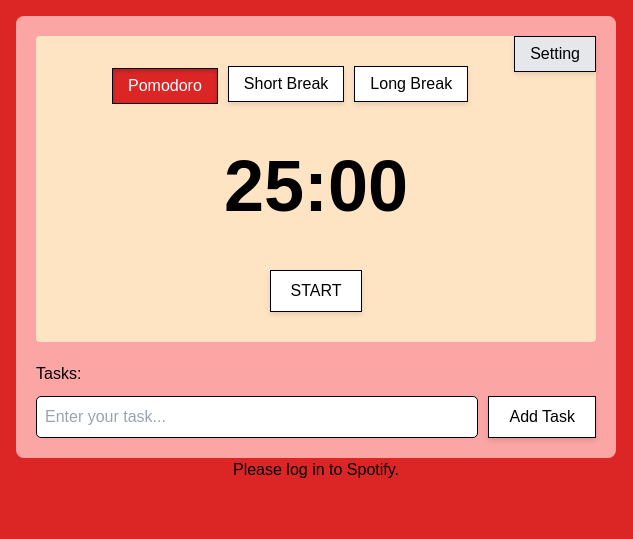
Timer Component › can add and delete a task
// Add task
Type "Test Task" into the field with placeholder "Enter your task...".
click(257, 417); type("Test Task")  # box [36, 396, 478, 438]
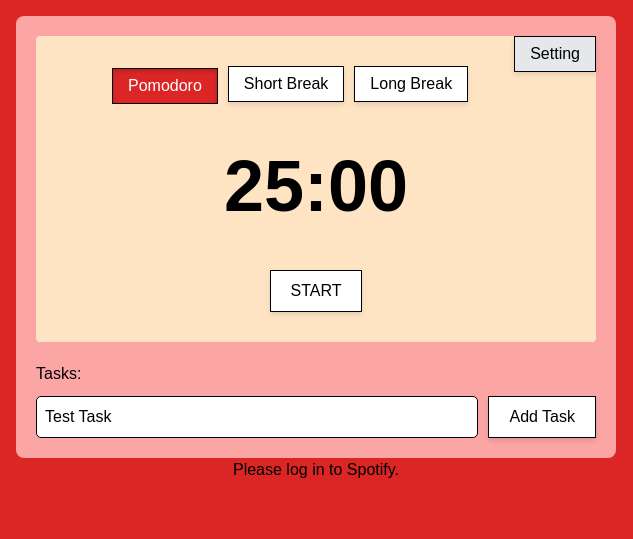
Click the button "Add Task".
click(542, 417)  # box [488, 396, 596, 438]
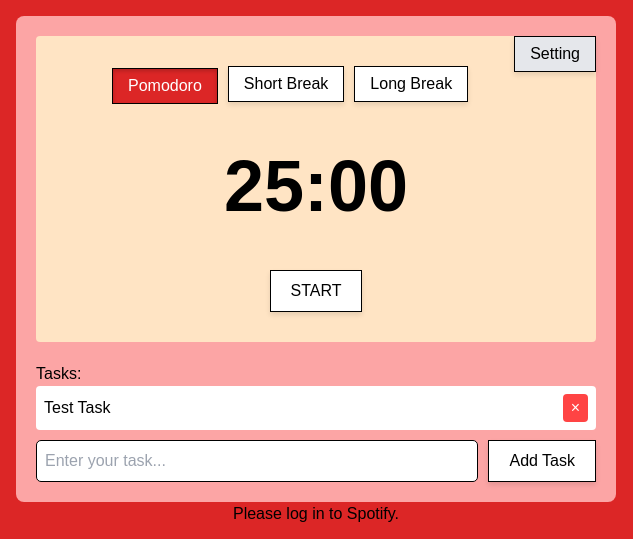
Expected: the text "Test Task" is shown, [44, 396, 110, 420]
// Delete task
Click the button "×".
click(575, 408)  # box [563, 394, 588, 422]
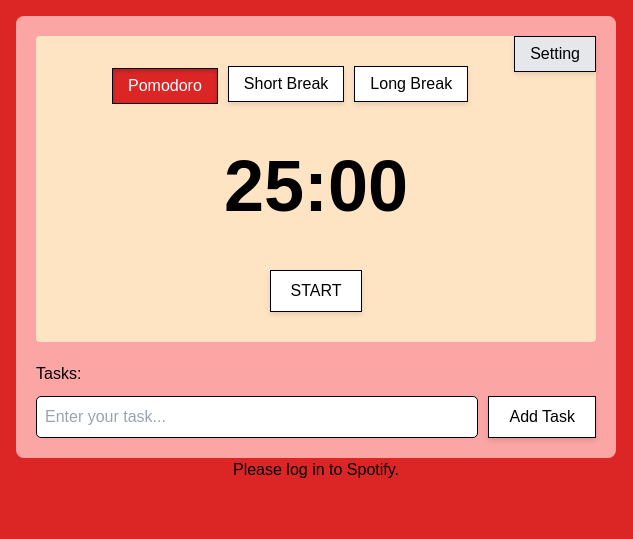
Expected: the text "Test Task" is gone
